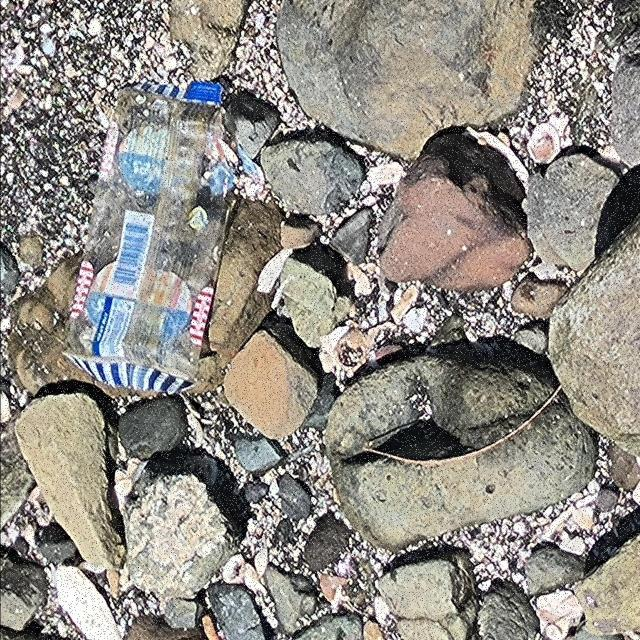plastic_waste: (61, 79, 240, 397)
